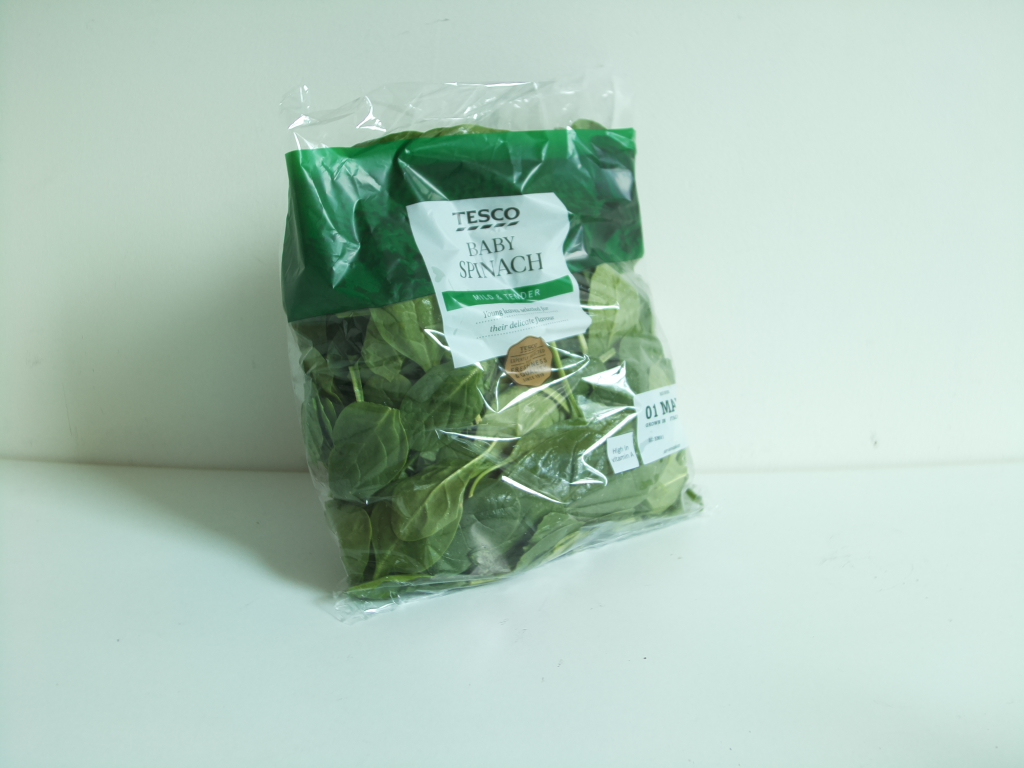salad: (280, 77, 701, 626)
